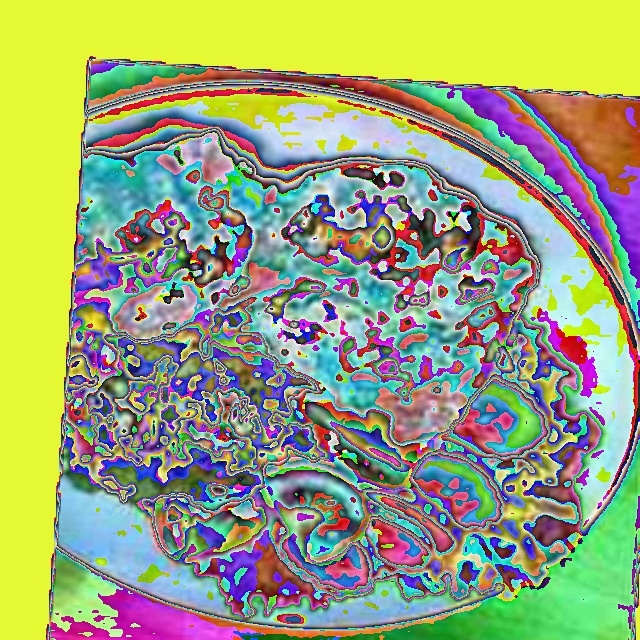background: (60, 130, 602, 622)
